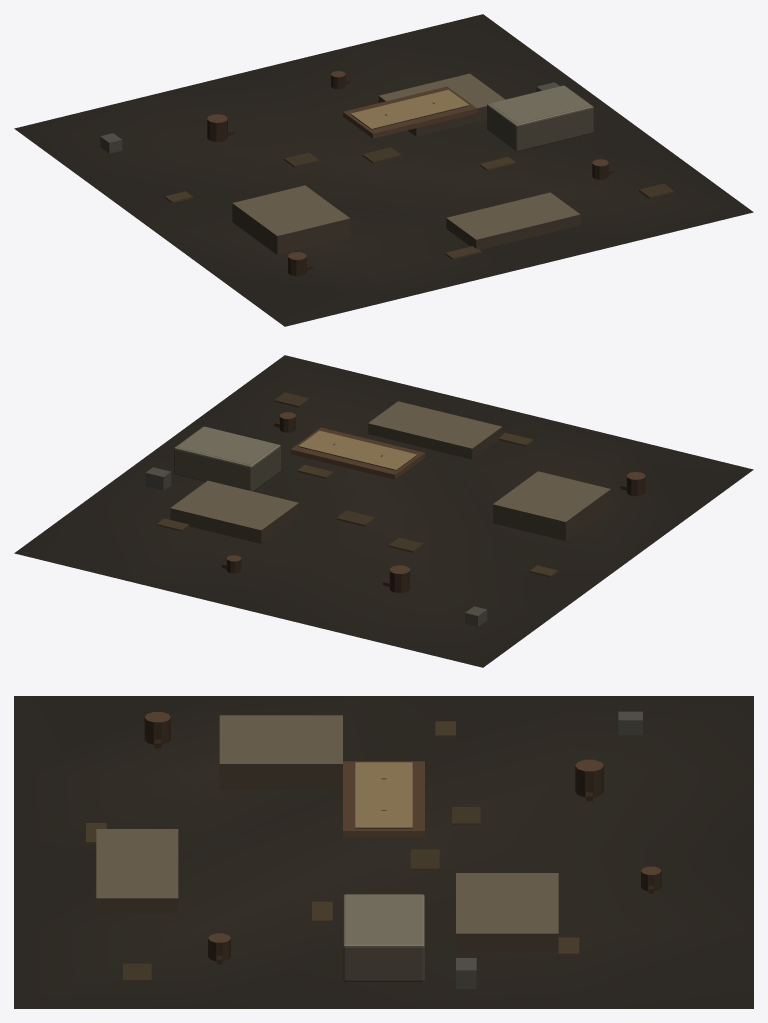
The model's file is selva_look001_LOD2.glb.
3 views of the same model, one above another, from view 1: azimuth 30°, elevation 25°; view 2: azimuth 150°, elevation 25°; view 3: azimuth 270°, elevation 25° (orthographic). The views are drawn at different scales.
Parts seen in each view (by area): view 1: SELVA_GP_Floor, SELVA_GP_Platforms, SELVA_GP_PlatformSolid_01, SELVA_GP_FloorClutter, SELVA_GP_Oneway_01; view 2: SELVA_GP_Floor, SELVA_GP_Platforms, SELVA_GP_PlatformSolid_01, SELVA_GP_FloorClutter, SELVA_GP_Oneway_01; view 3: SELVA_GP_Floor, SELVA_GP_Platforms, SELVA_GP_FloorClutter, SELVA_GP_PlatformSolid_01, SELVA_GP_Oneway_01.
Part boxes in pixels (bbox=[...]): SELVA_GP_Floor: bbox=[14, 14, 753, 326]; SELVA_GP_Platforms: bbox=[232, 73, 580, 254]; SELVA_GP_PlatformSolid_01: bbox=[487, 85, 593, 151]; SELVA_GP_FloorClutter: bbox=[100, 71, 674, 276]; SELVA_GP_Oneway_01: bbox=[343, 86, 477, 138]; SELVA_GP_Floor: bbox=[14, 355, 753, 667]; SELVA_GP_Platforms: bbox=[170, 401, 610, 543]; SELVA_GP_PlatformSolid_01: bbox=[174, 426, 280, 491]; SELVA_GP_FloorClutter: bbox=[145, 392, 645, 626]; SELVA_GP_Oneway_01: bbox=[290, 427, 424, 479]; SELVA_GP_Floor: bbox=[14, 696, 753, 1008]; SELVA_GP_Platforms: bbox=[96, 715, 558, 952]; SELVA_GP_FloorClutter: bbox=[86, 711, 661, 988]; SELVA_GP_PlatformSolid_01: bbox=[343, 894, 424, 981]; SELVA_GP_Oneway_01: bbox=[343, 761, 424, 837].
Size of what is drawn, in the model's own units: 18 by 2.02 by 18.
